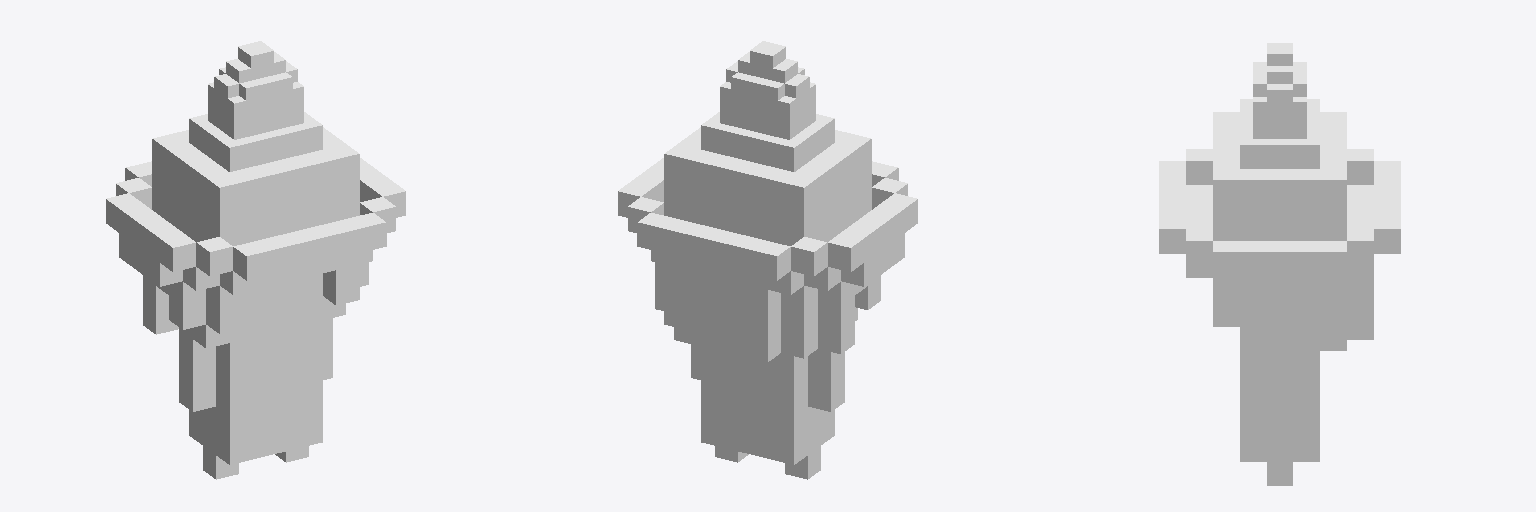
The model's file is Wizard.obj.
3 renders of one model, left to right at view 1: azimuth 30°, elevation 25°; view 2: azimuth 150°, elevation 25°; view 3: azimuth 270°, elevation 25°, orthographic.
Parts seen in each view (by area): view 1: Wizard; view 2: Wizard; view 3: Wizard.
Part boxes in pixels (x1,y1,x2,y2): Wizard: (106, 41, 405, 479); Wizard: (618, 41, 917, 479); Wizard: (1159, 43, 1400, 485).
Bounding box in the file's own units: 20 × 34 × 18.